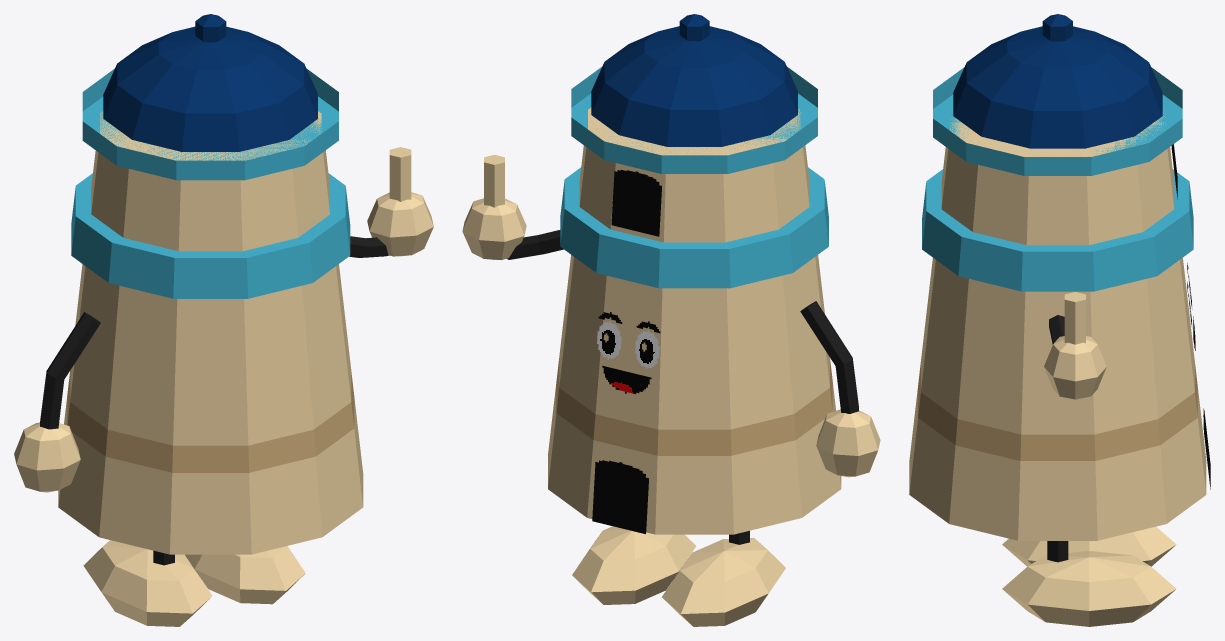
The model's file is portinho.glb.
The picture shows the model from 3 angles, left to right: view 1: azimuth 30°, elevation 25°; view 2: azimuth 150°, elevation 25°; view 3: azimuth 270°, elevation 25°; orthographic projection. The views are drawn at different scales.
Parts seen in each view (by area): view 1: Body, Hat, LegR, ArmR, ArmL, LegL; view 2: Body, Hat, LegR, LegL, ArmR, ArmL; view 3: Body, Hat, LegL, ArmL, LegR.
Boxes of the visible parts, box(x1,y1,x2,y2) form: Body: box(58, 111, 363, 554); Hat: box(82, 14, 338, 180); LegR: box(83, 540, 212, 626); ArmR: box(14, 312, 100, 492); ArmL: box(349, 147, 433, 257); LegL: box(185, 546, 305, 604); Body: box(548, 107, 841, 534); Hat: box(571, 14, 817, 173); LegR: box(662, 530, 785, 626); LegL: box(572, 526, 695, 604); ArmR: box(800, 301, 880, 477); ArmL: box(462, 154, 563, 260); Body: box(909, 112, 1210, 540); Hat: box(933, 14, 1182, 175); LegL: box(1002, 541, 1176, 626); ArmL: box(1044, 292, 1106, 399); LegR: box(1002, 526, 1176, 566).
Bounding box in the file's own units: 1.36 × 1.85 × 0.862.
Materials: 6 (1 with a texture image).
